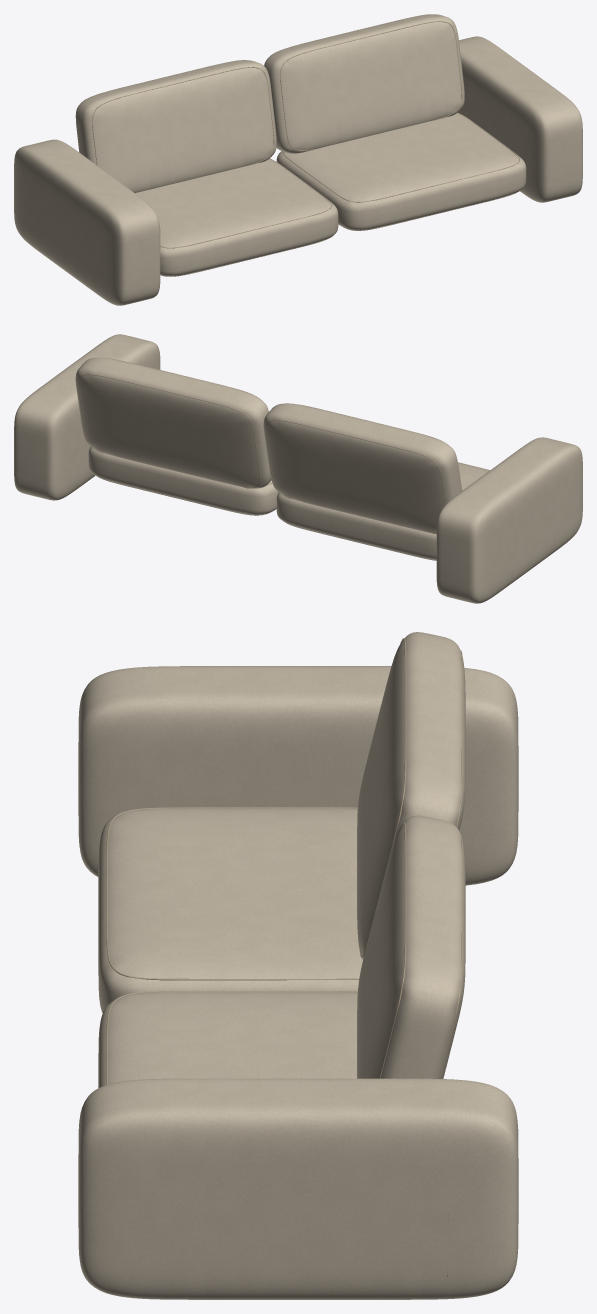
Rendered from theater_upholstery.glb.
The picture shows the model from 3 angles, top to bottom: view 1: azimuth 30°, elevation 25°; view 2: azimuth 150°, elevation 25°; view 3: azimuth 270°, elevation 25°; orthographic projection. The views are drawn at different scales.
Parts seen in each view (by area): view 1: Left | feather back cushion, Arm | vertical tailoring seam; view 2: Left | feather back cushion, Arm | vertical tailoring seam; view 3: Left | feather back cushion, Arm | vertical tailoring seam.
Part boxes in pixels (left/top/right/bottom): Left | feather back cushion: left=14, top=14, right=582, bottom=305; Arm | vertical tailoring seam: left=26, top=21, right=519, bottom=276; Left | feather back cushion: left=14, top=334, right=582, bottom=603; Arm | vertical tailoring seam: left=78, top=358, right=495, bottom=585; Left | feather back cushion: left=78, top=632, right=518, bottom=1299; Arm | vertical tailoring seam: left=106, top=638, right=462, bottom=1276.
Bounding box in the file's own units: 2.28 × 0.6518 × 0.9251.
Materials: 2 (1 with a texture image).
